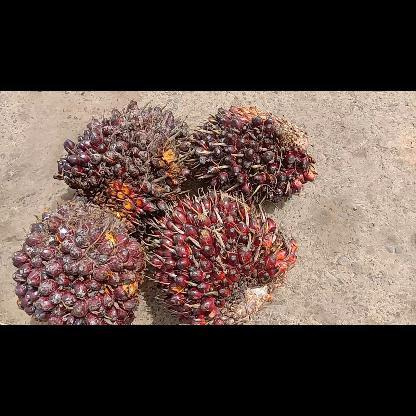Kurang masak: (142, 184, 298, 324), (51, 95, 192, 233)
TBS mentah: (9, 196, 151, 324), (186, 104, 319, 206)
